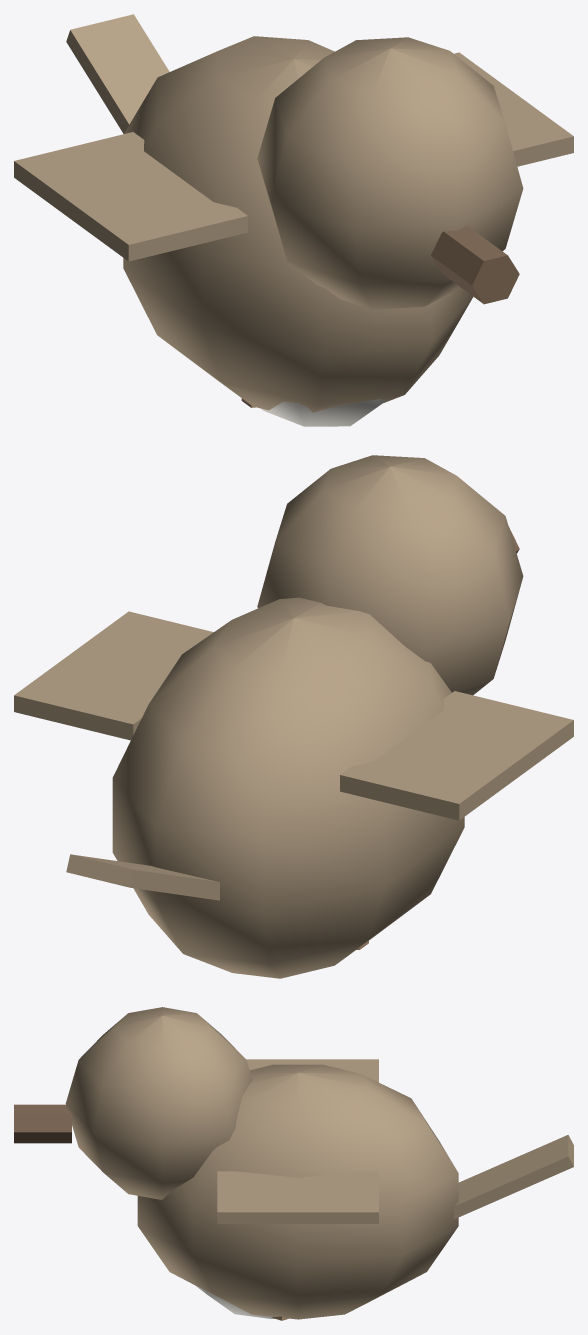
The model's file is critter_sparrow.glb.
3 renders of one model, top to bottom at view 1: azimuth 30°, elevation 25°; view 2: azimuth 150°, elevation 25°; view 3: azimuth 270°, elevation 25°, orthographic. The views are drawn at different scales.
Visible parts, largest first — view 1: Sparrow_Body, Sparrow_Head, Sparrow_Wing0, Sparrow_Tail, Sparrow_Beak, Sparrow_Wing1, Sparrow_Belly; view 2: Sparrow_Body, Sparrow_Head, Sparrow_Wing0, Sparrow_Wing1, Sparrow_Tail; view 3: Sparrow_Body, Sparrow_Head, Sparrow_Wing1, Sparrow_Tail, Sparrow_Beak, Sparrow_Wing0.
Boxes of the visible parts, x1=… form: Sparrow_Body: x1=123, y1=36, x2=473, y2=412; Sparrow_Head: x1=257, y1=37, x2=523, y2=309; Sparrow_Wing0: x1=14, y1=132, x2=247, y2=261; Sparrow_Tail: x1=66, y1=14, x2=169, y2=133; Sparrow_Beak: x1=431, y1=225, x2=519, y2=304; Sparrow_Wing1: x1=454, y1=52, x2=573, y2=166; Sparrow_Belly: x1=261, y1=399, x2=385, y2=426; Sparrow_Body: x1=112, y1=597, x2=464, y2=978; Sparrow_Head: x1=257, y1=455, x2=523, y2=695; Sparrow_Wing0: x1=340, y1=691, x2=573, y2=820; Sparrow_Wing1: x1=14, y1=611, x2=213, y2=740; Sparrow_Tail: x1=66, y1=854, x2=219, y2=900; Sparrow_Body: x1=137, y1=1064, x2=458, y2=1319; Sparrow_Head: x1=65, y1=1007, x2=252, y2=1199; Sparrow_Wing1: x1=217, y1=1171, x2=378, y2=1223; Sparrow_Tail: x1=453, y1=1135, x2=573, y2=1219; Sparrow_Beak: x1=14, y1=1104, x2=71, y2=1143; Sparrow_Wing0: x1=246, y1=1059, x2=378, y2=1082.
Size of the model in its own units: 0.112 by 0.1014 by 0.1734.
